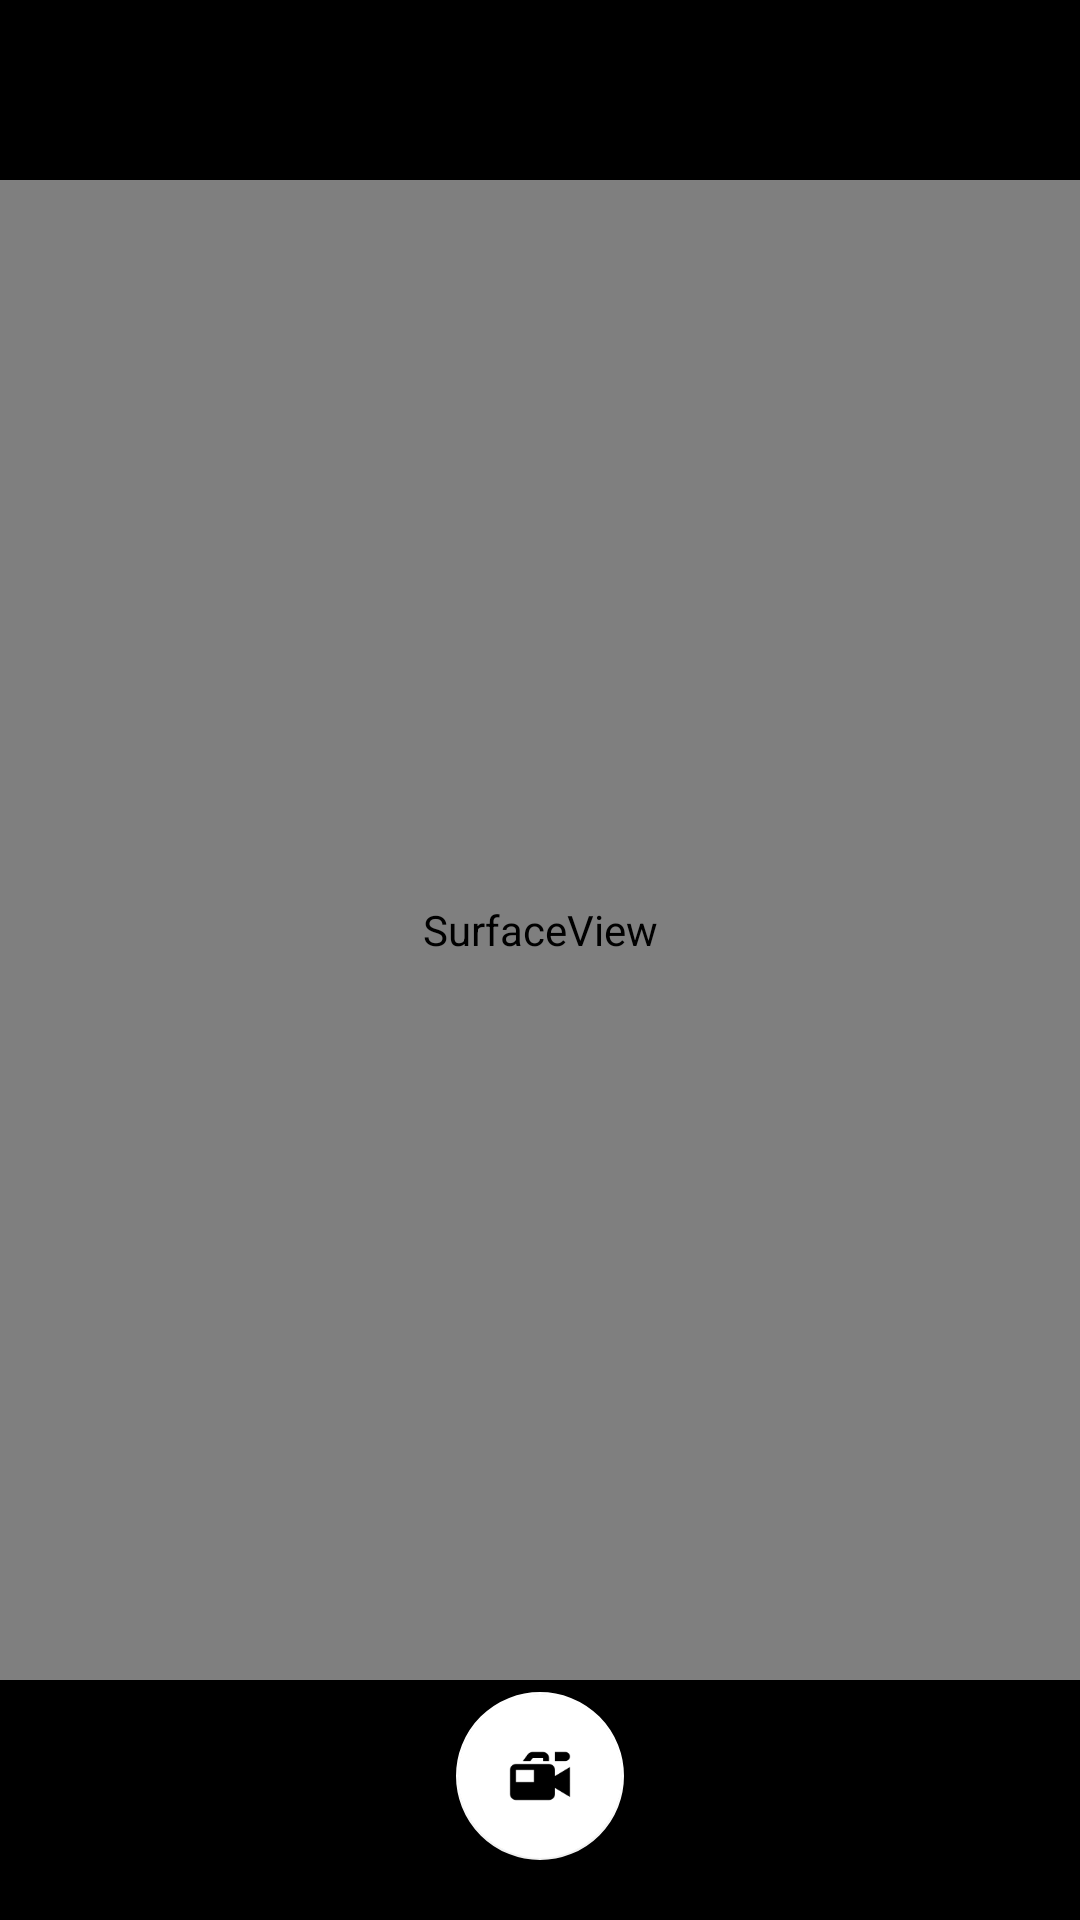

Point at icon controls on the screen. Image size 1080*1920, points as (x,y).
videocamera: (540,1776)
